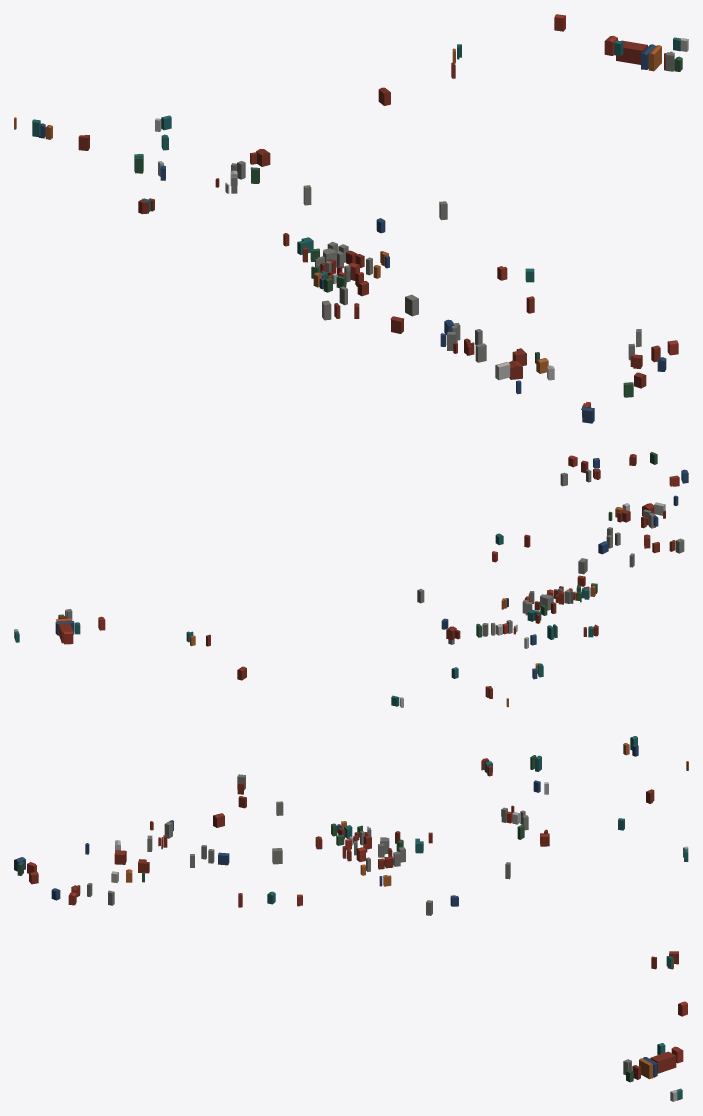
Rendered from near-15-27369-14872.c482f870.glb.
3 views of the same model, one above another, from view 1: azimuth 30°, elevation 25°; view 2: azimuth 150°, elevation 25°; view 3: azimuth 270°, elevation 25° (orthographic). The views are drawn at different scales.
Bounding box in the file's own units: 1113 × 176 × 1157.
